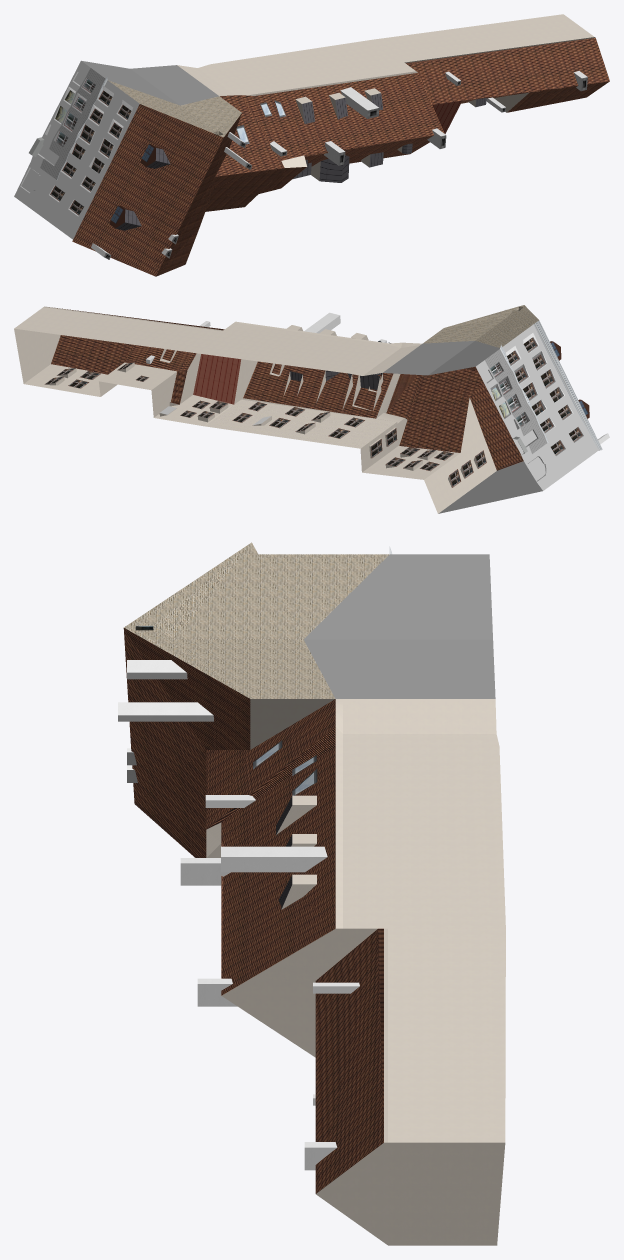
Rendered from Vene_8_1-origo.obj.
The picture shows the model from 3 angles, top to bottom: view 1: azimuth 30°, elevation 25°; view 2: azimuth 150°, elevation 25°; view 3: azimuth 270°, elevation 25°; orthographic projection. The views are drawn at different scales.
Parts seen in each view (by area): view 1: Vene_8_1; view 2: Vene_8_1; view 3: Vene_8_1.
Part boxes in pixels (<box>): Vene_8_1: <box>14,14,609,276</box>; Vene_8_1: <box>14,305,609,513</box>; Vene_8_1: <box>118,542,505,1245</box>.
Size of the model in its own units: 69.88 by 20.5 by 22.34.
